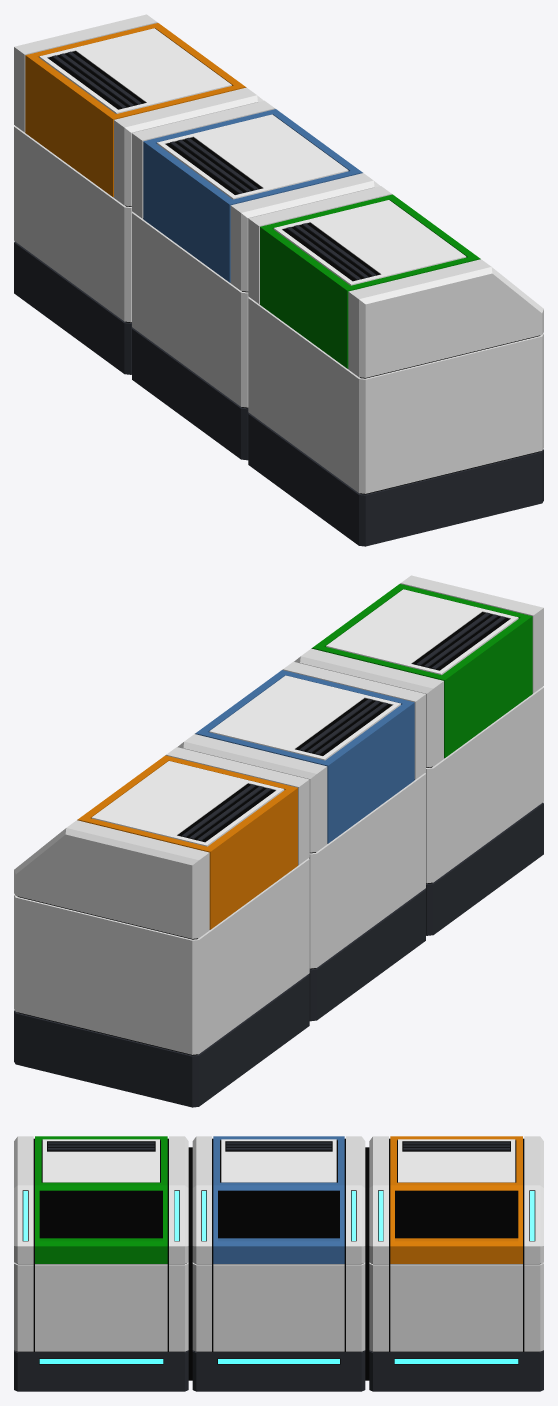
Rendered from SM_RecyclingStation.fbx.
3 views of the same model, one above another, from view 1: azimuth 30°, elevation 25°; view 2: azimuth 150°, elevation 25°; view 3: azimuth 270°, elevation 25° (orthographic). The views are drawn at different scales.
Parts seen in each view (by area): view 1: SM_RecyclingStation; view 2: SM_RecyclingStation; view 3: SM_RecyclingStation.
Part boxes in pixels (box(x1,y1,x2,y2)): SM_RecyclingStation: box(14, 14, 543, 546); SM_RecyclingStation: box(14, 575, 543, 1107); SM_RecyclingStation: box(14, 1136, 543, 1391).
Size of the model in its own units: 55 by 70.25 by 180.
